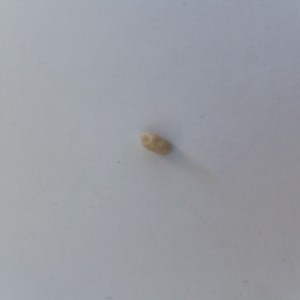trigo: (134, 130, 174, 157)
